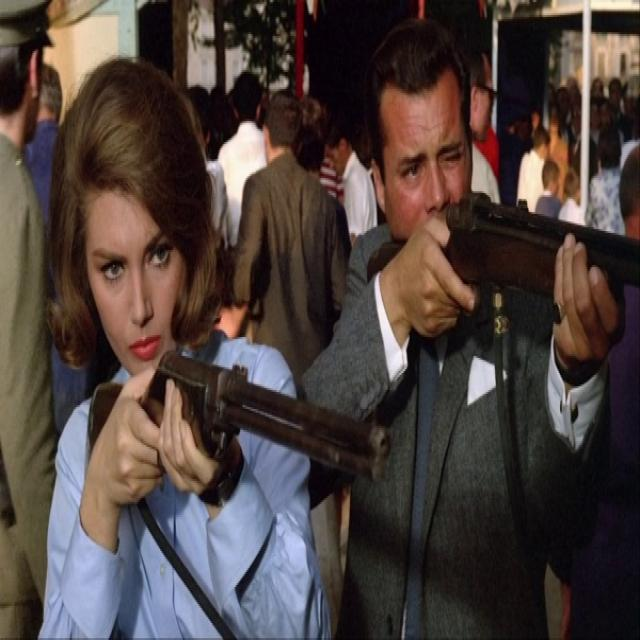rifle: (81, 347, 398, 503), (364, 195, 640, 307)
